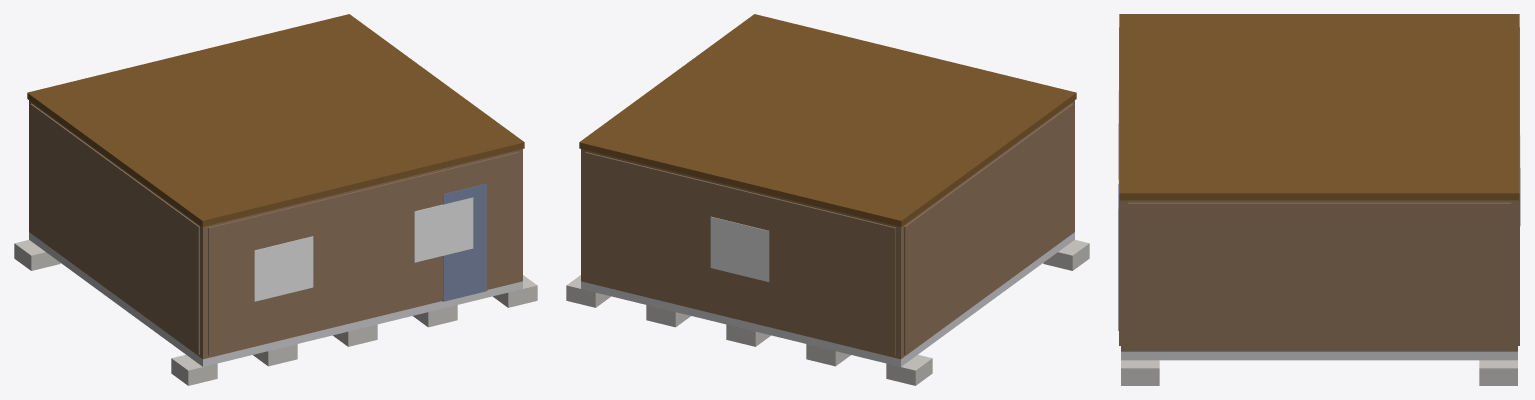
Rendered from Studio-20-Base-DarkBrown-LOD0.glb.
3 renders of one model, left to right at view 1: azimuth 30°, elevation 25°; view 2: azimuth 150°, elevation 25°; view 3: azimuth 270°, elevation 25°, orthographic. The views are drawn at different scales.
Visible parts, largest first — view 1: RoofMain, ExteriorPanelsStandard, WindowsStandard, FoundationBlocks, BaseFrame, ExteriorShell, EntryDoor; view 2: ExteriorPanelsStandard, RoofMain, FoundationBlocks, BaseFrame, ExteriorShell, WindowsStandard; view 3: RoofMain, ExteriorPanelsStandard, ExteriorShell, BaseFrame, FoundationBlocks.
Part boxes in pixels (<box>): RoofMain: <box>27,14,524,226</box>; ExteriorPanelsStandard: <box>30,103,518,355</box>; WindowsStandard: <box>254,197,473,301</box>; FoundationBlocks: <box>14,240,537,385</box>; BaseFrame: <box>29,232,522,366</box>; ExteriorShell: <box>29,100,522,359</box>; EntryDoor: <box>442,183,487,301</box>; ExteriorPanelsStandard: <box>585,103,1073,355</box>; RoofMain: <box>579,14,1076,226</box>; FoundationBlocks: <box>566,240,1089,385</box>; BaseFrame: <box>581,232,1074,366</box>; ExteriorShell: <box>581,100,1074,359</box>; WindowsStandard: <box>710,216,769,281</box>; RoofMain: <box>1119,14,1519,200</box>; ExteriorPanelsStandard: <box>1119,27,1519,349</box>; ExteriorShell: <box>1121,200,1517,351</box>; BaseFrame: <box>1121,351,1517,360</box>; FoundationBlocks: <box>1121,360,1517,385</box>.
Bounding box in the file's own units: 7.14 × 3.17 × 6.24.
